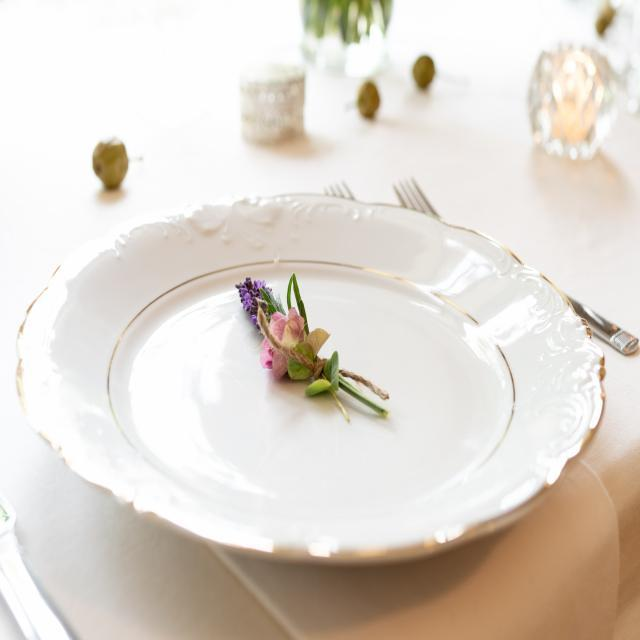plate: (6, 136, 610, 572)
